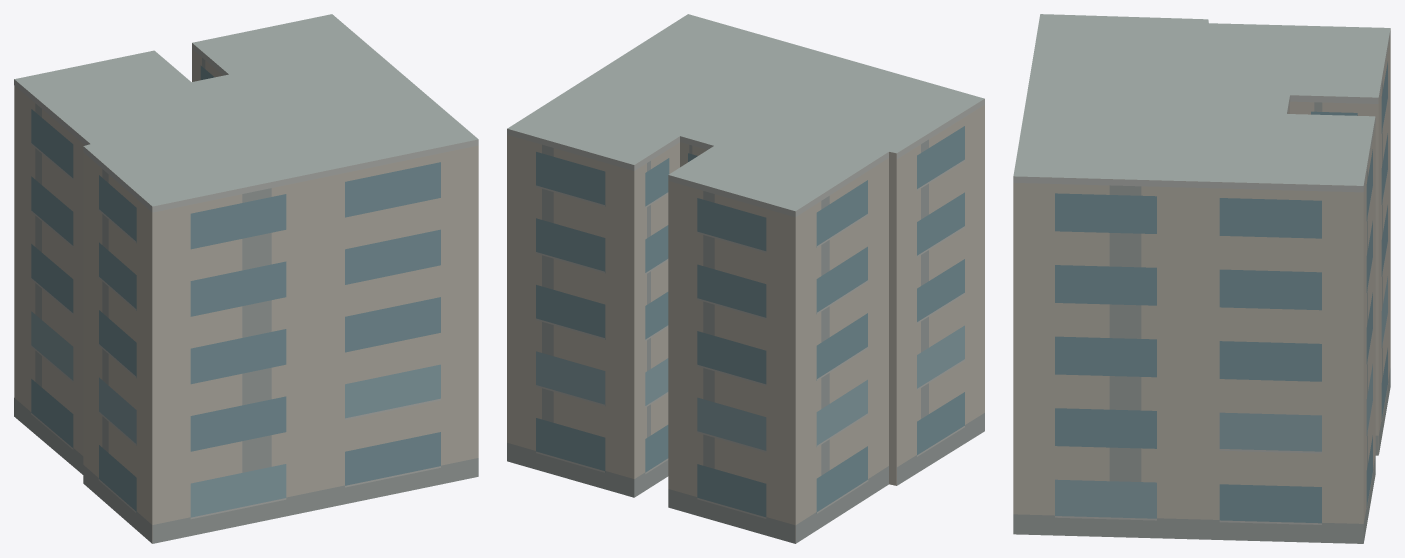
The model's file is survey-upis-32527452.glb.
The picture shows the model from 3 angles, left to right: view 1: azimuth 30°, elevation 25°; view 2: azimuth 150°, elevation 25°; view 3: azimuth 270°, elevation 25°; orthographic projection. The views are drawn at different scales.
Visible parts, largest first — view 1: survey-upis-32527452.tmp; view 2: survey-upis-32527452.tmp; view 3: survey-upis-32527452.tmp.
Part boxes in pixels (left/top/right/bottom): survey-upis-32527452.tmp: left=14, top=14, right=478, bottom=543; survey-upis-32527452.tmp: left=507, top=14, right=984, bottom=543; survey-upis-32527452.tmp: left=1013, top=14, right=1390, bottom=543.
Bounding box in the file's own units: 14.02 × 13.6 × 13.
